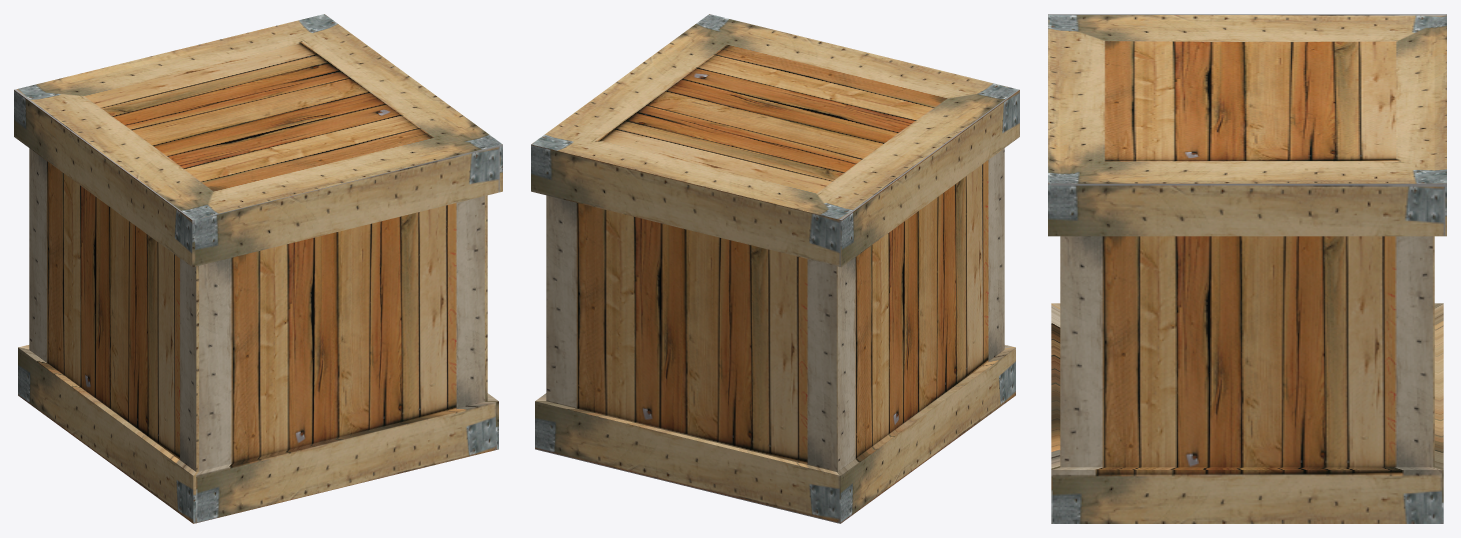
The model's file is Crates_1.fbx.
3 renders of one model, left to right at view 1: azimuth 30°, elevation 25°; view 2: azimuth 150°, elevation 25°; view 3: azimuth 270°, elevation 25°, orthographic. The views are drawn at different scales.
Parts seen in each view (by area): view 1: pCube2; view 2: pCube2; view 3: pCube2.
Part boxes in pixels (box(x1,y1,x2,y2)): pCube2: box(14, 14, 502, 523); pCube2: box(531, 14, 1019, 523); pCube2: box(1048, 14, 1446, 523).
Bounding box in the file's own units: 57.44 × 53.98 × 57.1.
